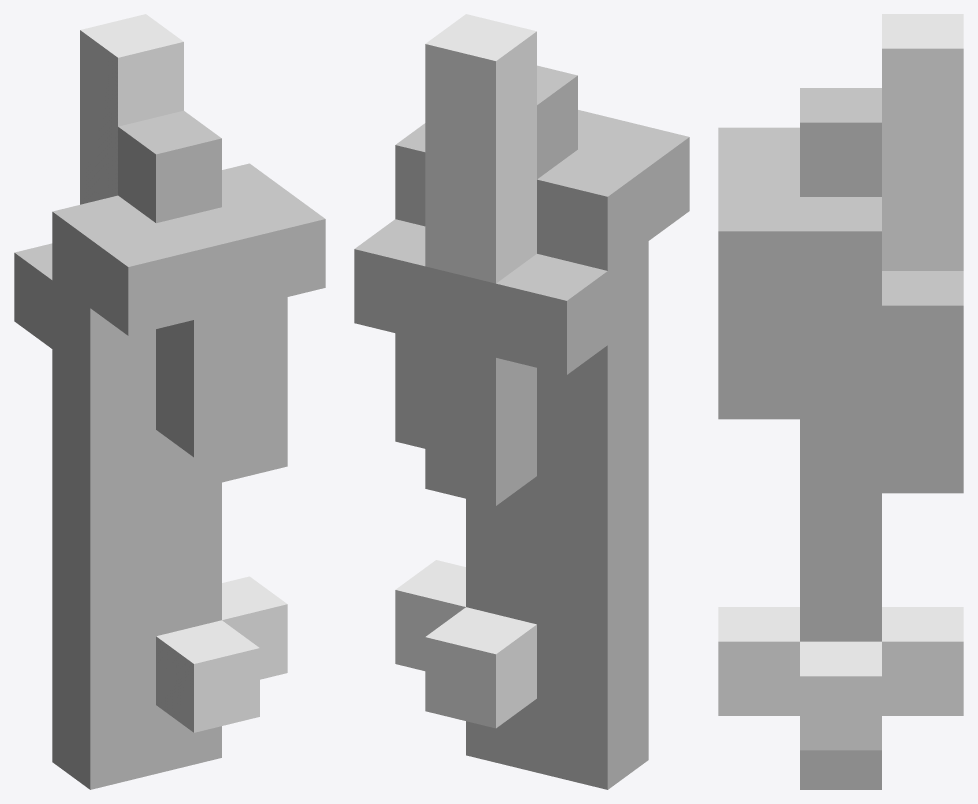
File: SkelBossUpperArmR.dae
3 renders of one model, left to right at view 1: azimuth 30°, elevation 25°; view 2: azimuth 150°, elevation 25°; view 3: azimuth 270°, elevation 25°, orthographic. The views are drawn at different scales.
Visible parts, largest first — view 1: SkelBossUpperArmR; view 2: SkelBossUpperArmR; view 3: SkelBossUpperArmR.
Boxes of the visible parts, x1,y1,x2,y2 form: SkelBossUpperArmR: (14,14,325,789); SkelBossUpperArmR: (354,14,689,789); SkelBossUpperArmR: (718,14,963,789).
Bounding box in the file's own units: 0.3 × 0.3 × 1.
1 material, 1 textured.
